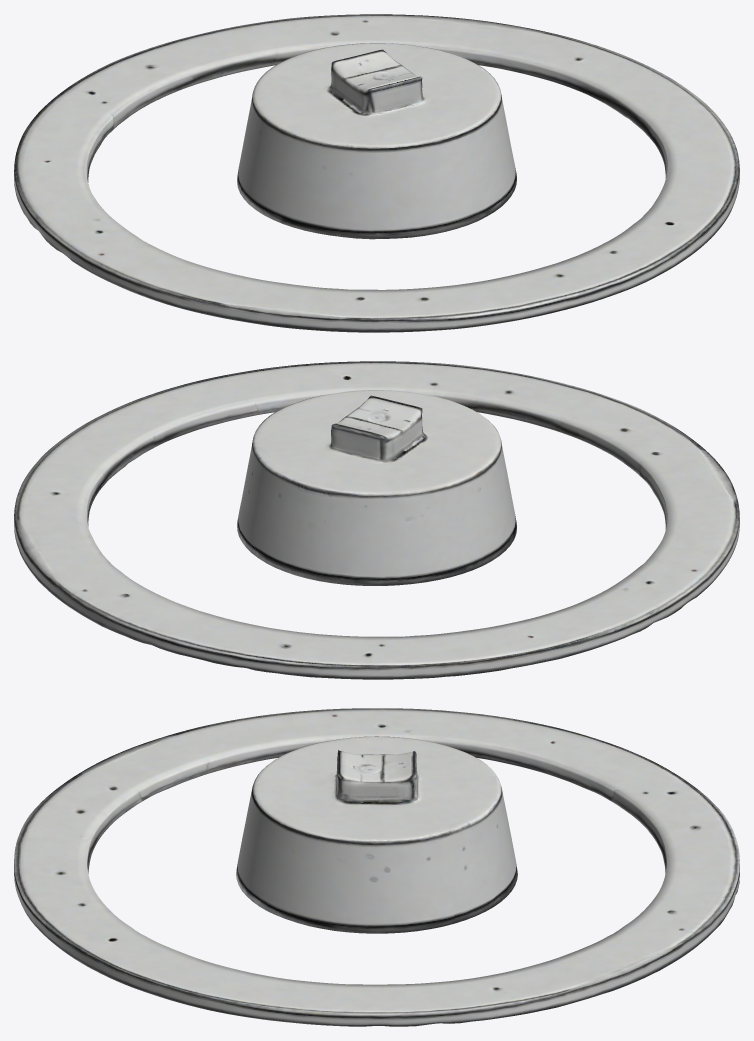
Rendered from sombrero.glb.
3 renders of one model, top to bottom at view 1: azimuth 30°, elevation 25°; view 2: azimuth 150°, elevation 25°; view 3: azimuth 270°, elevation 25°, orthographic.
Size of the model in its own units: 2 by 0.3411 by 2.
1 material, 1 textured.
